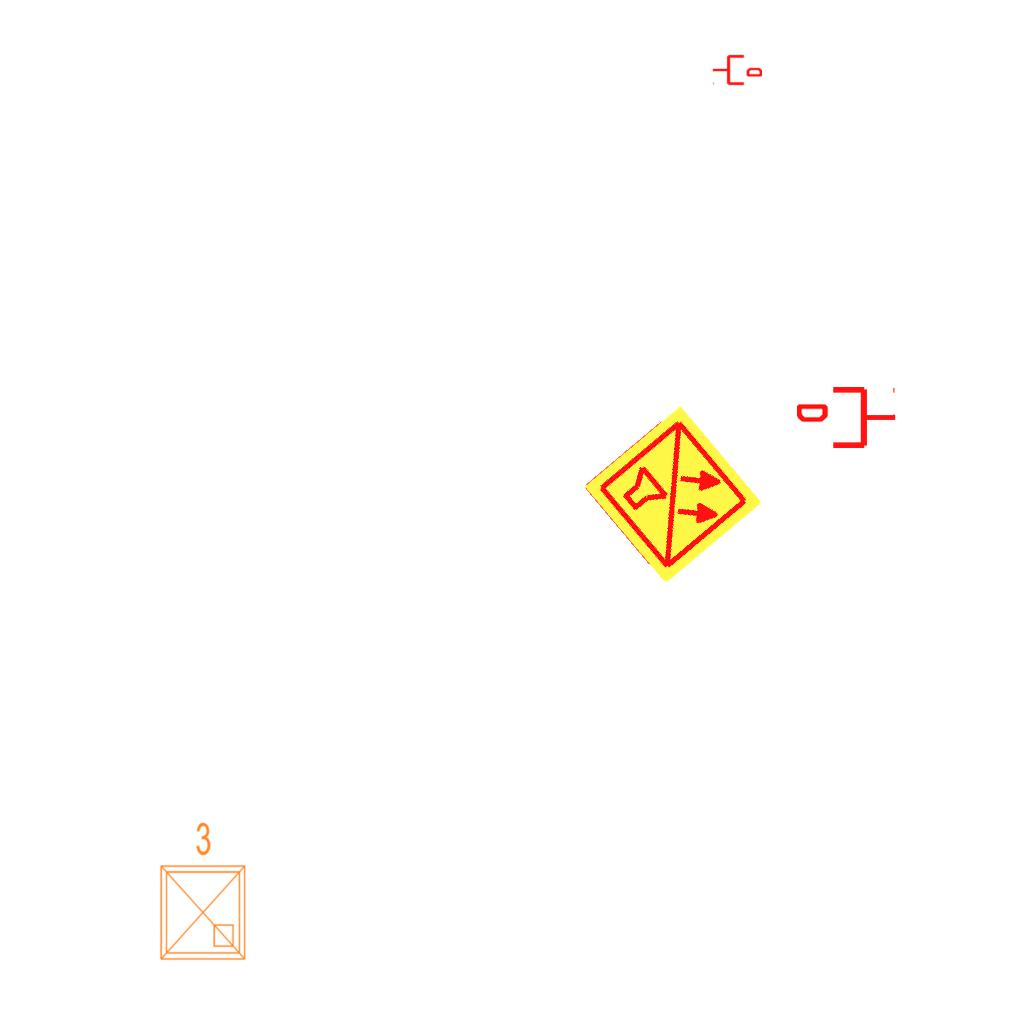Datenanschluss_einfach: (797, 383, 897, 452), (712, 53, 762, 87)
Einbaudownlights_LED_Konferenzraeume: (149, 817, 253, 967)
OKW_Multisensormelder_(Kombination_optischer_Rauch-Kahlenmonoxid_Waerme-Melder): (580, 402, 766, 588)
